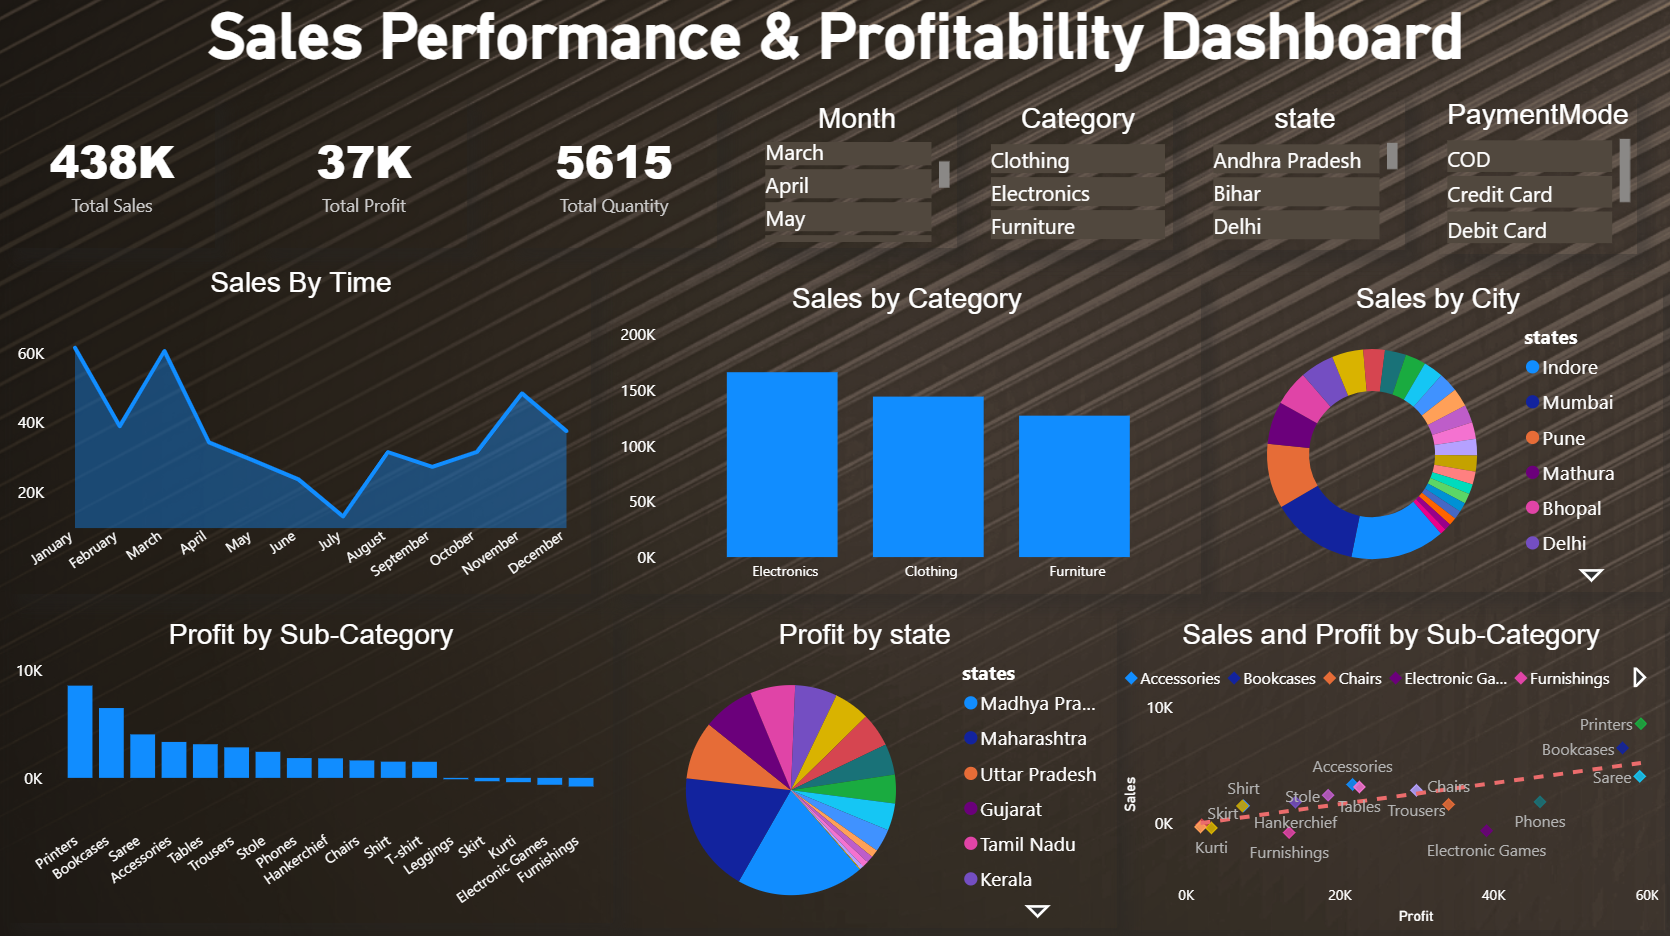

Layout of this report page (visuals, bound fields, positions):
{"tool":"powerbi","page":{"name":"Page 1","canvas":[1280,720],"ordinal":0},"visuals":[{"type":"textbox","box":[15.2,0,1251.2,69.8],"z":0},{"type":"lineChart","title":"Sales By Time","fields":{"Y":["Sum(Details.Amount)"],"Category":["Orders.Order Dates.Variation.Date Hierarchy.Month"]},"box":[15.2,204.7,439.8,251.8],"z":1000},{"type":"clusteredColumnChart","title":"Sales by Category","fields":{"Category":["Details.Category"],"Y":["Sum(Details.Amount)"]},"box":[471.7,216.9,445.9,239.6],"z":2000},{"type":"clusteredColumnChart","title":"Profit by Sub-Category","fields":{"Category":["Details.Sub-Category"],"Y":["Sum(Details.Profit)"]},"box":[14.1,472,457.9,233.9],"z":3000},{"type":"pieChart","title":"Profit by state","fields":{"Category":["Orders.state"],"Y":["Sum(Details.Profit)"]},"box":[472,472,381.8,238.1],"z":4000},{"type":"donutChart","title":"Sales by City","fields":{"Category":["Orders.city"],"Y":["Sum(Details.Amount)"]},"box":[926.6,216.9,341.2,238.1],"z":5000},{"type":"scatterChart","title":"Sales and Profit by Sub-Category","fields":{"X":["Sum(Details.Amount)"],"Y":["Sum(Details.Profit)"],"Series":["Details.Sub-Category"]},"box":[853.9,472,415.7,239.5],"z":6000},{"type":"listSlicer","fields":{"Values":["Orders.Order Dates.Variation.Date Hierarchy.Month"]},"box":[580.9,80.4,151.7,113.7],"z":7000},{"type":"listSlicer","fields":{"Values":["Details.Category"]},"box":[752.2,80.4,144.1,115.3],"z":8000},{"type":"listSlicer","fields":{"Values":["Orders.state"]},"box":[920.6,80.4,151.7,115.3],"z":9000},{"type":"listSlicer","fields":{"Values":["Details.PaymentMode"]},"box":[1098,77.3,150.1,121.3],"z":10000},{"type":"card","fields":{"Values":["Sum(Details.Amount)"]},"box":[13.6,80.4,156.2,113.7],"z":11000},{"type":"card","fields":{"Values":["Sum(Details.Profit)"]},"box":[204.7,80.4,156.2,113.7],"z":12000},{"type":"card","fields":{"Values":["Sum(Details.Quantity)"]},"box":[394.3,80.4,156.2,113.7],"z":13000}]}

Visuals, with their boxes in screenshot pixels (x1, y1, x2, y2), scaled from the page's 1280x720 canvas onto the 1670x936 screenshot:
textbox: <region>20, 0, 1652, 91</region>
"Sales By Time" lineChart: <region>20, 266, 594, 593</region>
"Sales by Category" clusteredColumnChart: <region>615, 282, 1197, 593</region>
"Profit by Sub-Category" clusteredColumnChart: <region>18, 614, 616, 918</region>
"Profit by state" pieChart: <region>616, 614, 1114, 923</region>
"Sales by City" donutChart: <region>1209, 282, 1654, 592</region>
"Sales and Profit by Sub-Category" scatterChart: <region>1114, 614, 1656, 925</region>
listSlicer - Orders.Order Dates.Variation.Date Hierarchy.Month: <region>758, 105, 956, 252</region>
listSlicer - Details.Category: <region>981, 105, 1169, 254</region>
listSlicer - Orders.state: <region>1201, 105, 1399, 254</region>
listSlicer - Details.PaymentMode: <region>1433, 100, 1628, 258</region>
card - Sum(Details.Amount): <region>18, 105, 222, 252</region>
card - Sum(Details.Profit): <region>267, 105, 471, 252</region>
card - Sum(Details.Quantity): <region>514, 105, 718, 252</region>
